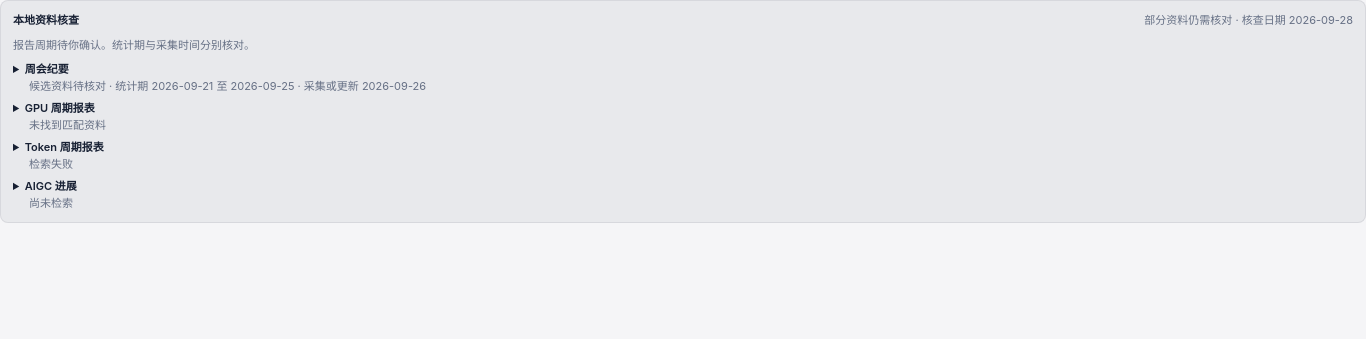
it: 创作细节本地资料核查 › shows bounded source dates and keeps candidate, missing, failed and skipped distinct
Check: the element "本地资料核查" shows "部分资料仍需核对", box [1144, 13, 1232, 27]
Check: the element "本地资料核查" shows "核查日期 2026-09-28", box [1232, 13, 1353, 27]
Click the text "候选资料待核对 · 统计期 2026-09-21 至 2026-09-25 · 采集或更新 2026-09-26".
click(228, 86)  # box [29, 78, 426, 92]
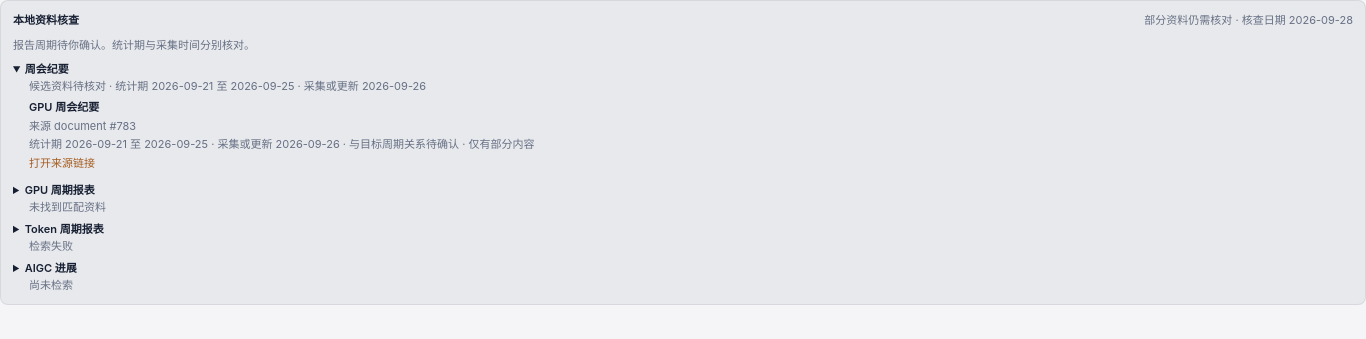
Check: the element "本地资料核查" shows "GPU 周会纪要", box [29, 100, 99, 114]
Check: the element "本地资料核查" shows "与目标周期关系待确认 · 仅有部分内容"
Check: the element "本地资料核查" shows "来源 document #783"
Click the text "检索失败".
click(51, 246)  # box [29, 238, 73, 252]
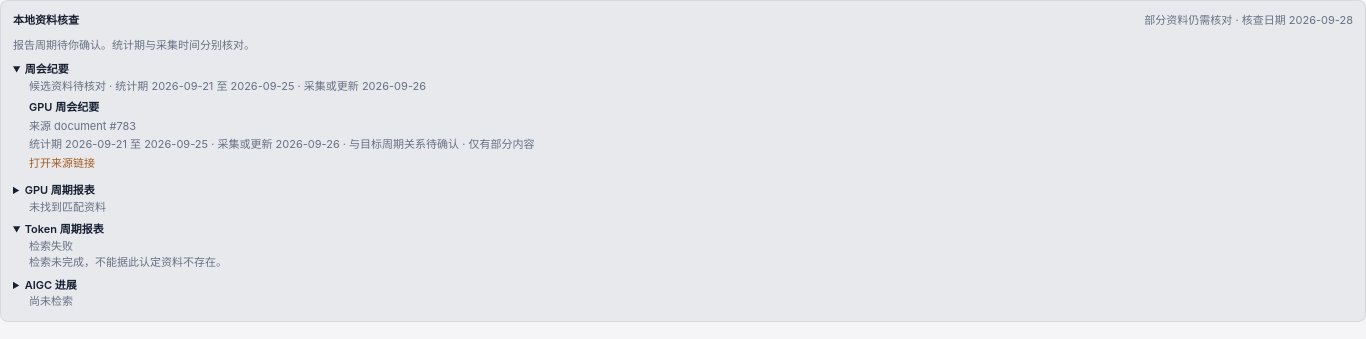
Check: the element "本地资料核查" shows "检索未完成，不能据此认定资料不存在。", box [29, 255, 227, 269]
